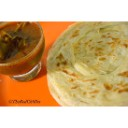parota: (52, 23, 128, 107)
